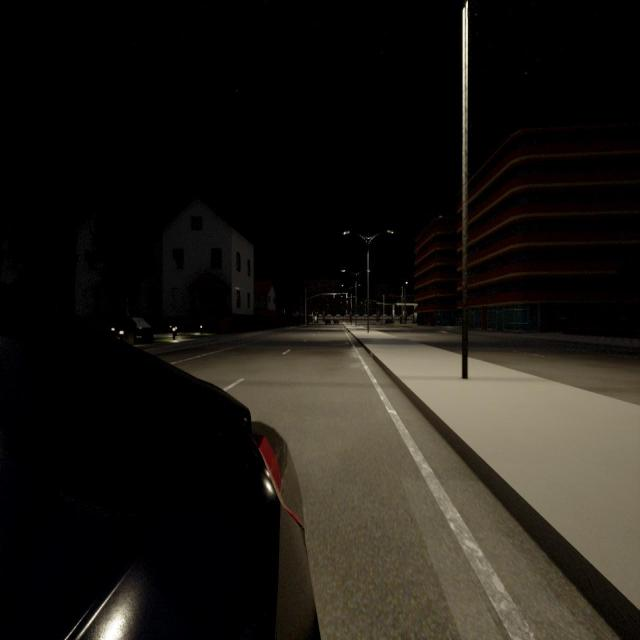Vehicle: (0, 327, 318, 638), (325, 319, 330, 325), (385, 320, 392, 324), (334, 320, 339, 324)
traffic_light: (360, 302, 362, 304), (369, 302, 371, 304), (346, 294, 347, 298), (334, 294, 334, 298)
